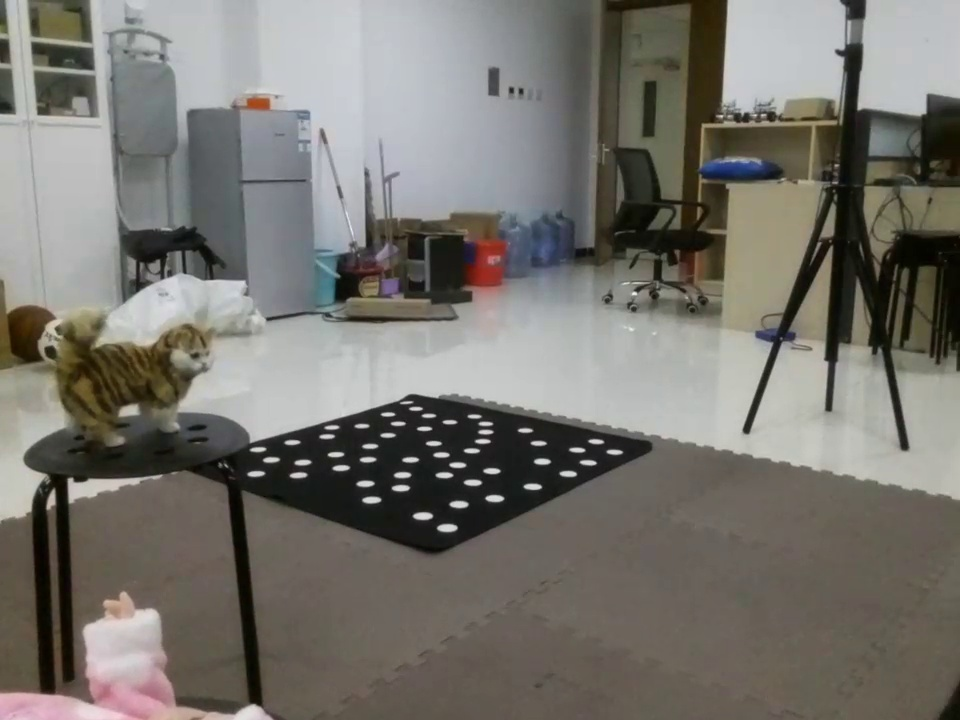cat: (42, 316, 234, 437)
